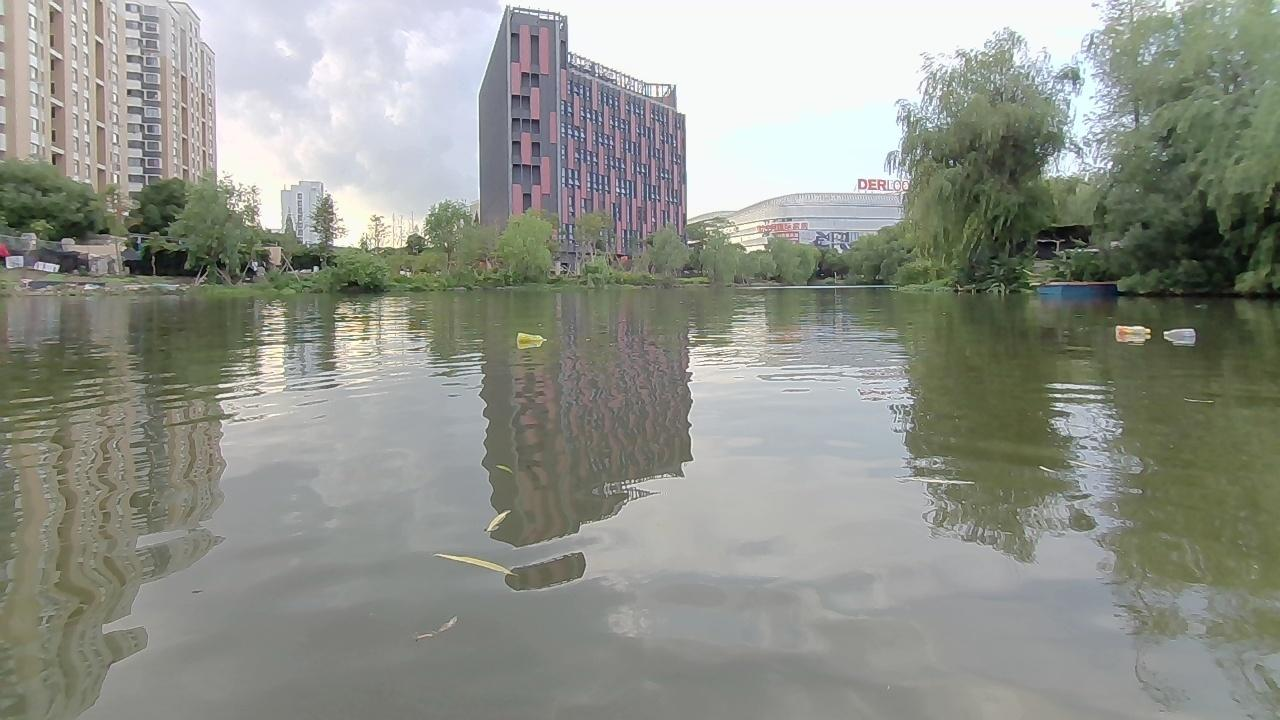bottle: (1113, 320, 1154, 342), (511, 326, 546, 348), (1164, 327, 1194, 342)
